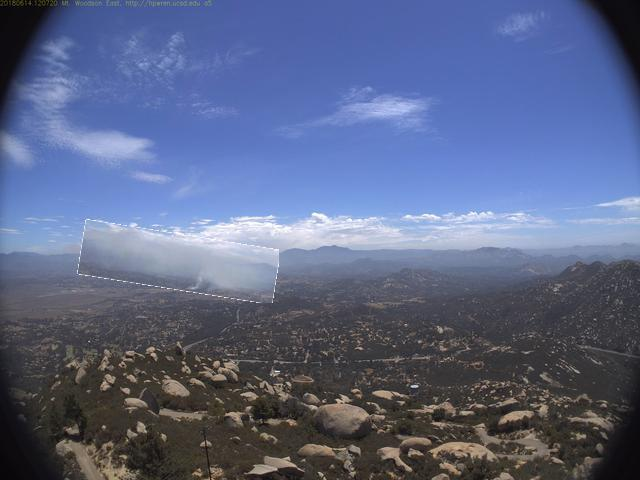smoke: (80, 228, 280, 298)
